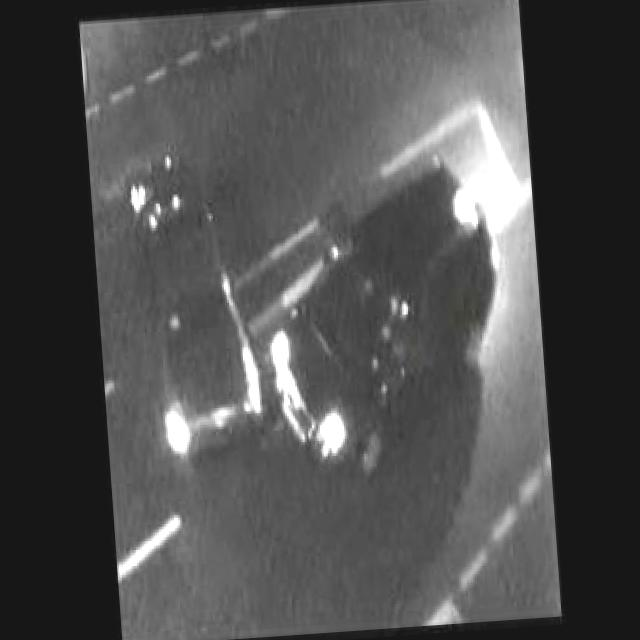car: (248, 160, 502, 494), (118, 146, 270, 460)
